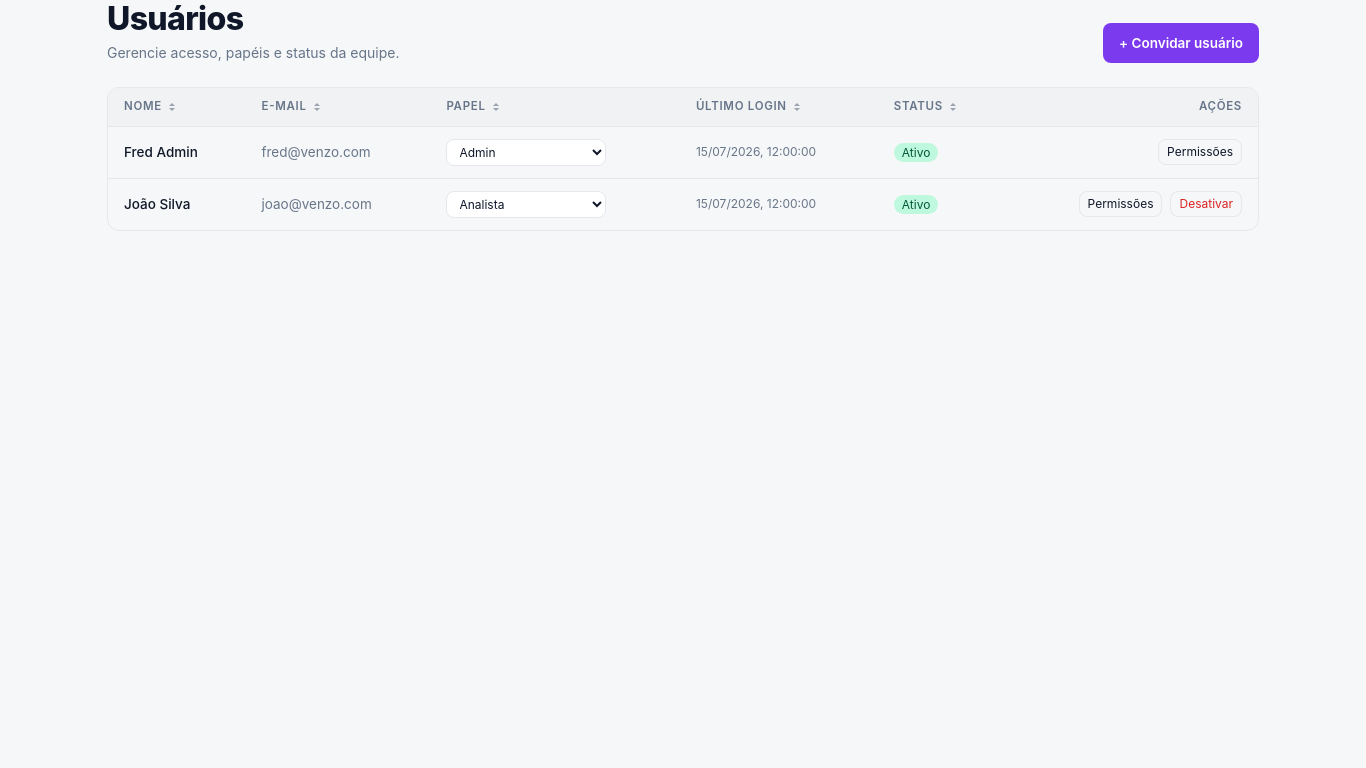
Test: /admin/users (P-86 wiring) › cancelar no AlertDialog NÃO dispara deactivate
This screenshot has width=1366, height=768.
Click the button with aria-label "Desativar João Silva".
click(1206, 204)  # box 1170,191 -> 1242,217
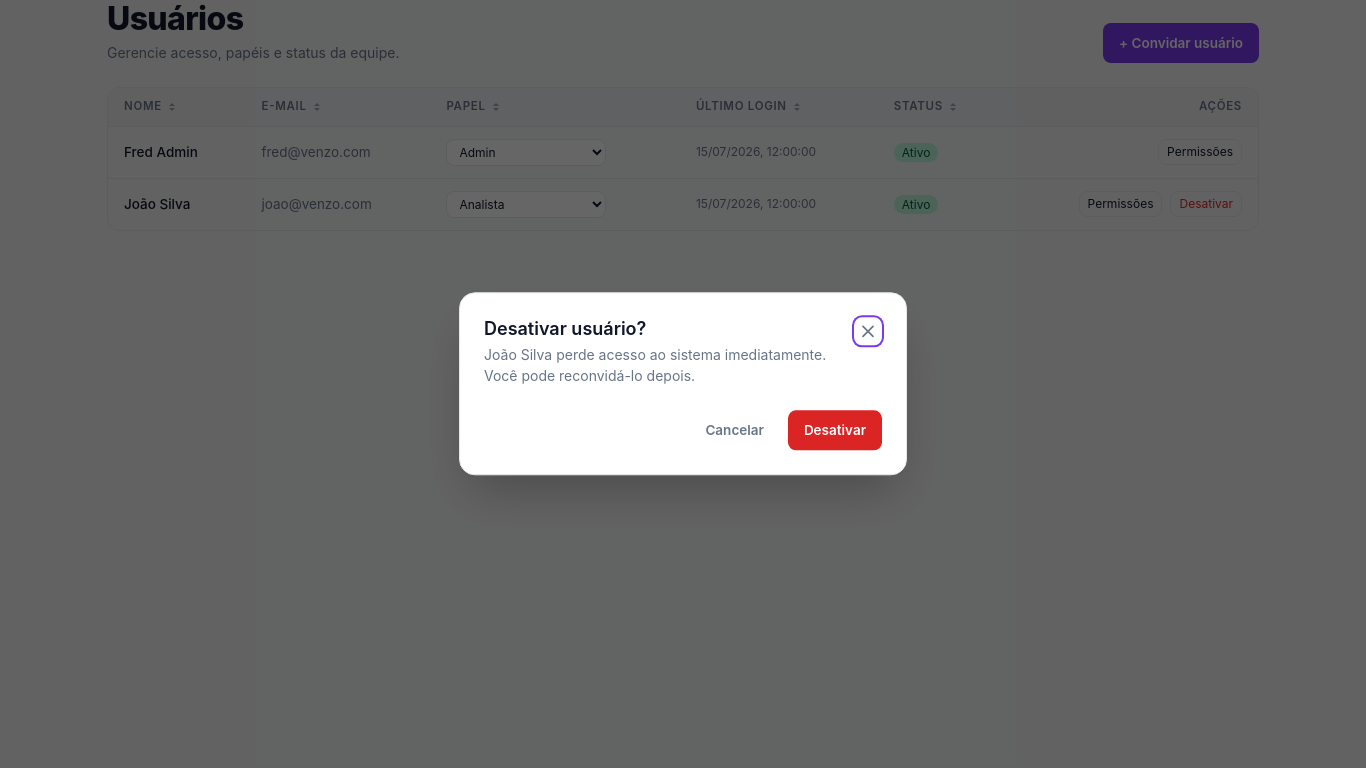
Click the button "Cancelar".
click(735, 431)  # box 689,411 -> 780,451
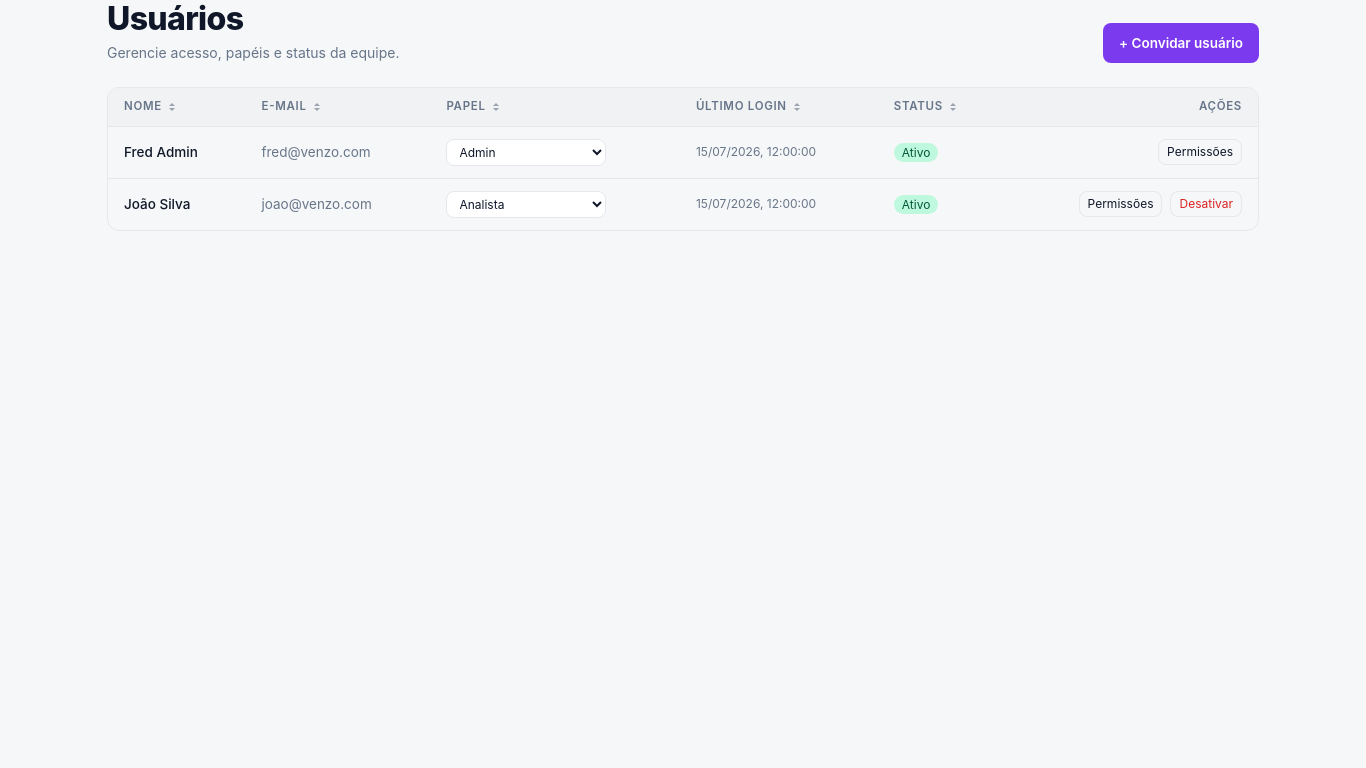
Expected: the heading "Desativar usuário?" is gone
